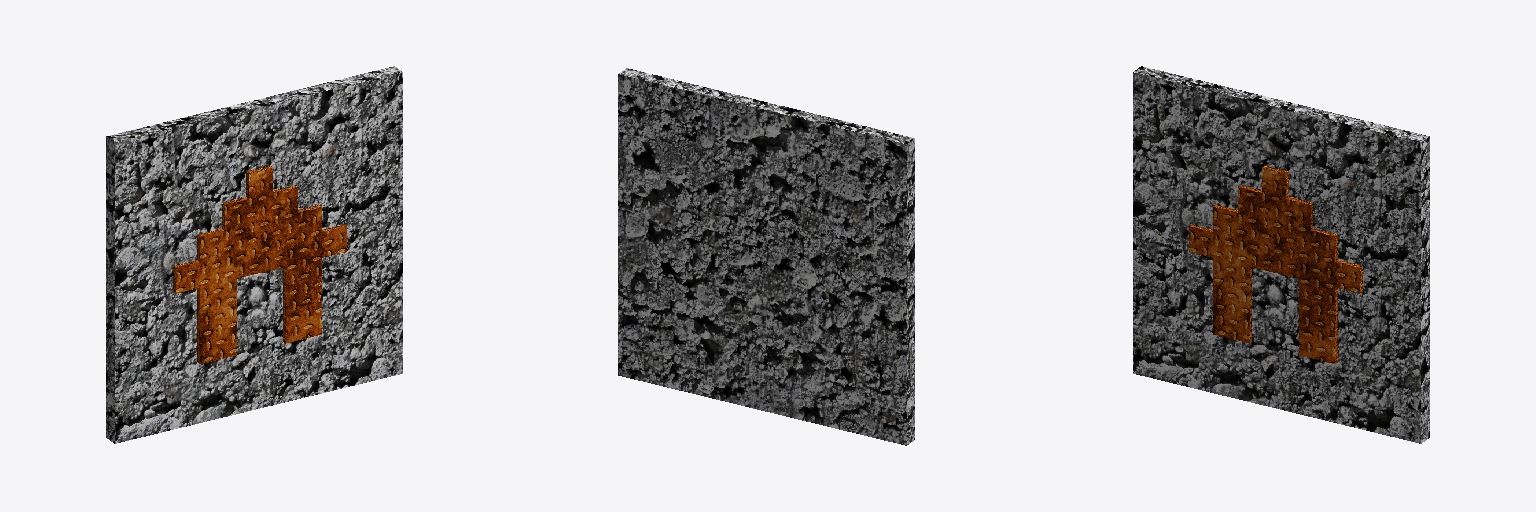
The picture shows the model from 3 angles: view 1: azimuth 30°, elevation 25°; view 2: azimuth 150°, elevation 25°; view 3: azimuth 330°, elevation 25°; orthographic projection.
Visible parts, largest first — view 1: Box001, Loft001; view 2: Box001; view 3: Box001, Loft001.
Part boxes in pixels (x1,y1,x2,y2): Box001: (106, 66, 402, 443); Loft001: (173, 166, 346, 363); Box001: (618, 68, 914, 445); Box001: (1133, 66, 1429, 443); Loft001: (1189, 166, 1362, 363).
Bounding box in the file's own units: 40 × 40 × 2.63.
Materials: 2 (2 with a texture image).